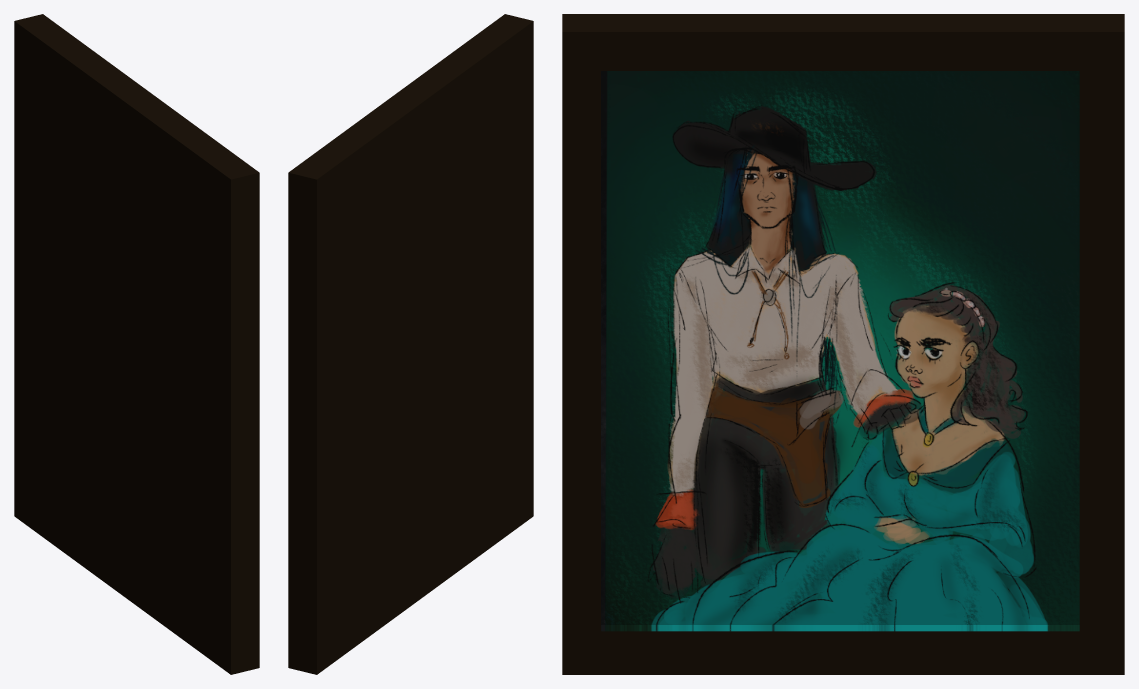
File: Painting4.fbx
3 views of the same model, side by side, from view 1: azimuth 30°, elevation 25°; view 2: azimuth 150°, elevation 25°; view 3: azimuth 270°, elevation 25° (orthographic). The views are drawn at different scales.
Parts seen in each view (by area): view 1: Cube; view 2: Cube; view 3: Cube.
Part boxes in pixels (left/top/right/bottom): Cube: left=14, top=14, right=259, bottom=674; Cube: left=288, top=14, right=533, bottom=674; Cube: left=562, top=14, right=1124, bottom=674.
Size of the model in its own units: 18.71 by 309 by 245.
